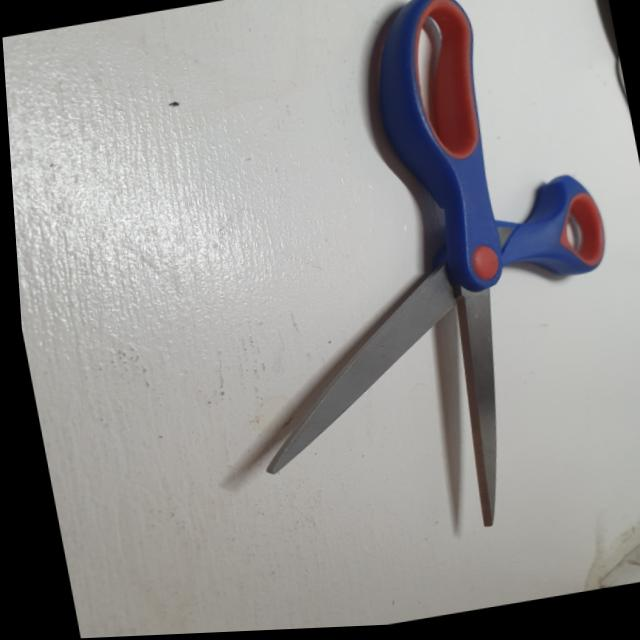scissor: (158, 0, 640, 574)
